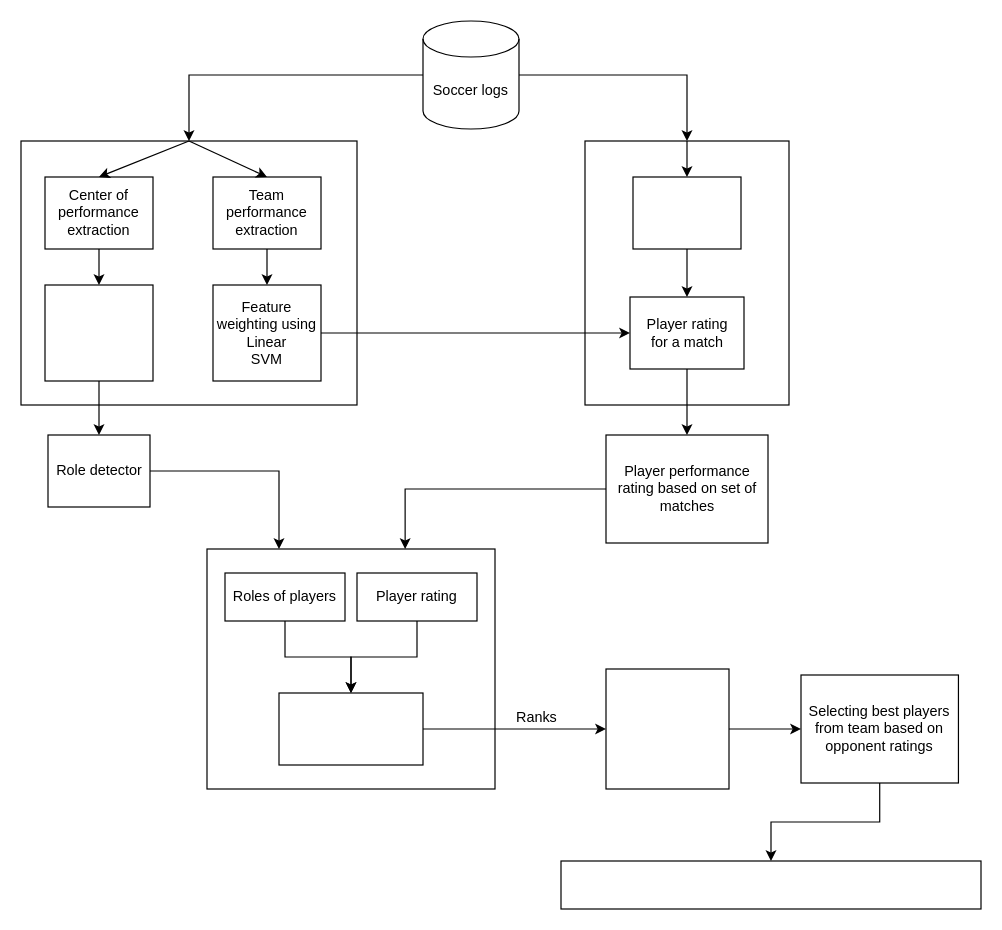
Some shapes in this 1002 by 930 pixel diagram are drawn without their labels. Each missing label, with the centre of its shape:
"Filtering ratings of opponent players" belongs at (667,728).
"Individual performance extraction" belongs at (686,212).
"Ranks of the players" belongs at (350,728).
"Role detector learning using fuzzy c-means" belongs at (98,332).
"Suggested team for match against opponent" belongs at (770,884).
